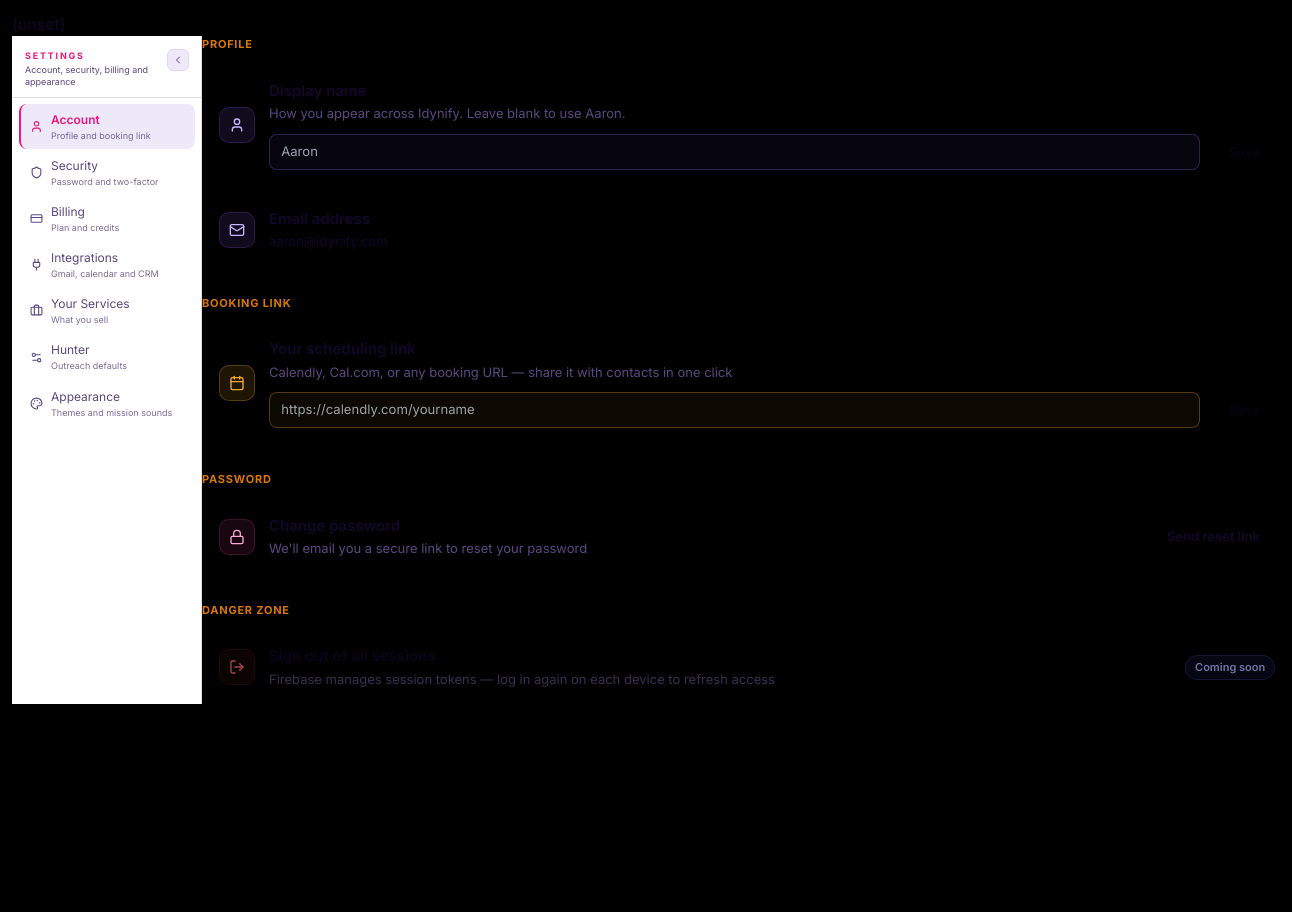
Test: Display name field › reaches the top bar immediately, not on the next reload
The image size is (1292, 912).
Expected: the text with test id "chrome-name" reads "(unset)", left=12, top=14, right=66, bottom=34
In the field labelled "Display name": (735, 152) left=269, top=134, right=1200, bottom=170, type "Ren"
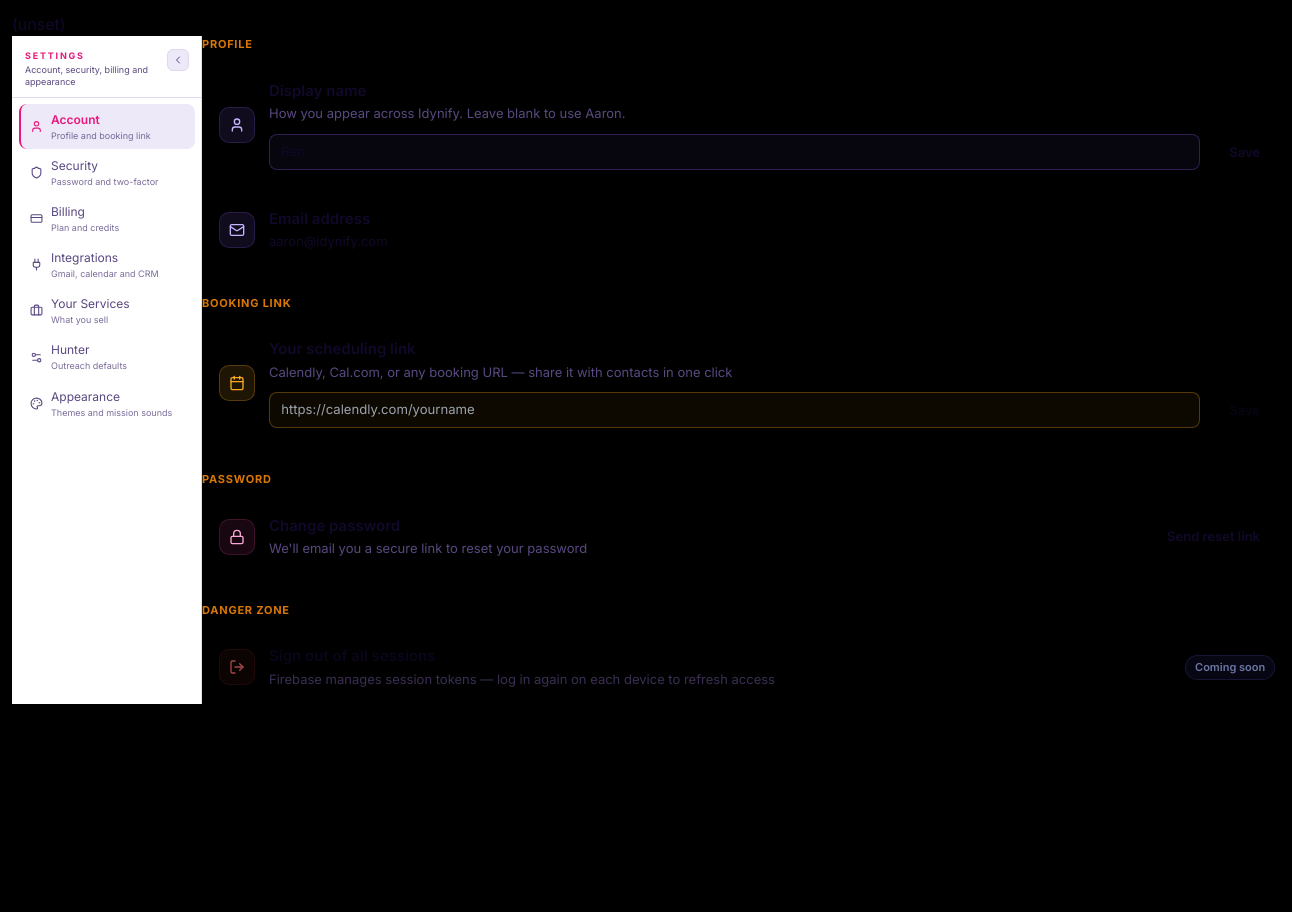
Click the button with aria-label "save display name": (1245, 152) left=1214, top=135, right=1275, bottom=170
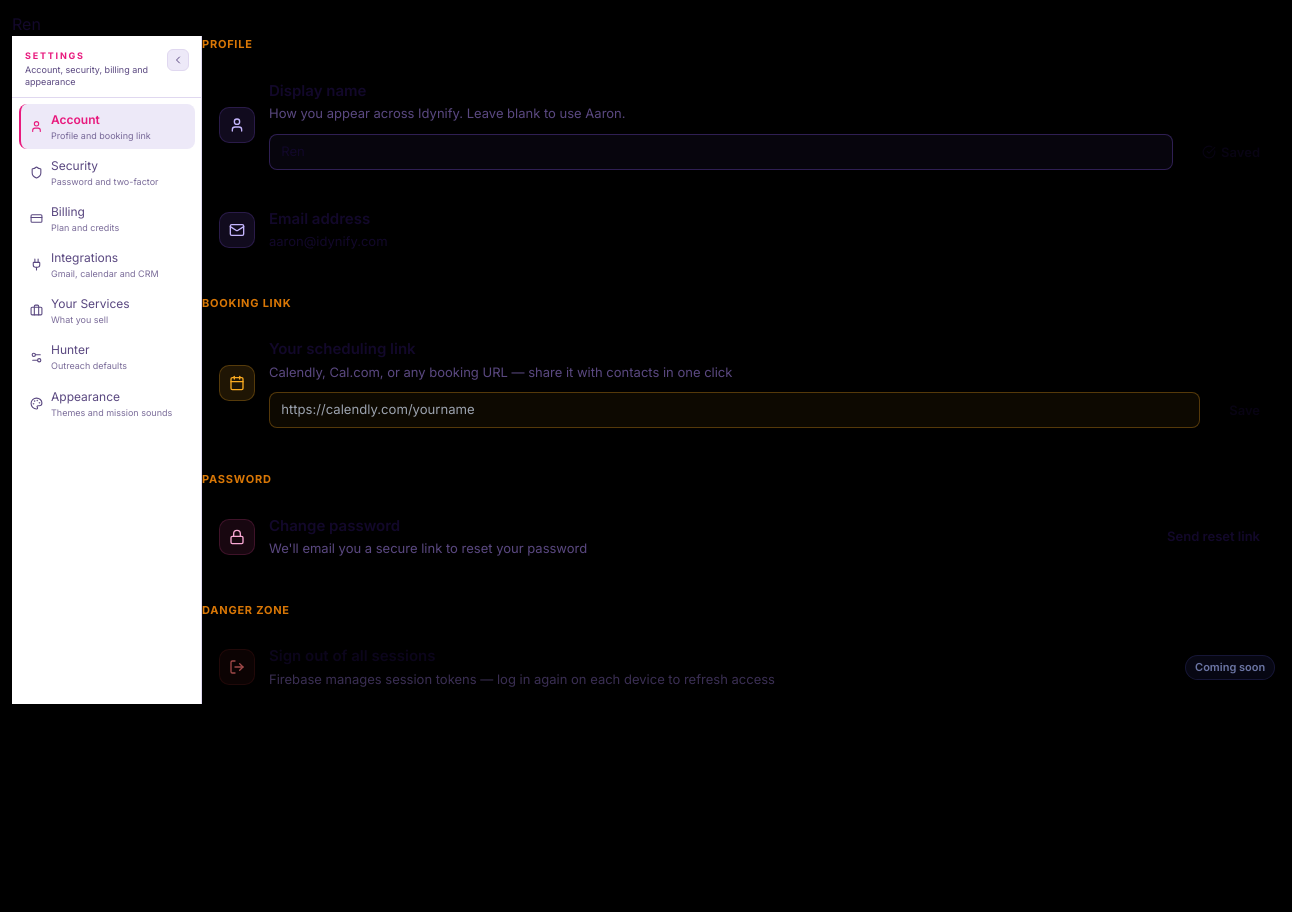
Expected: the text with test id "chrome-name" reads "Ren", left=12, top=14, right=41, bottom=34
